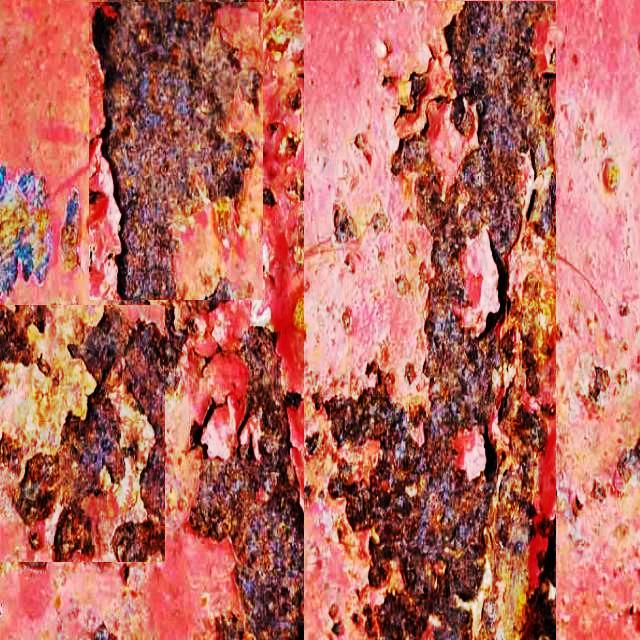Corrosion: (334, 130, 505, 600), (94, 0, 254, 302), (446, 2, 556, 256), (190, 419, 303, 640), (14, 385, 155, 562), (472, 419, 555, 640), (111, 323, 185, 563), (237, 327, 289, 464), (498, 276, 556, 396), (0, 165, 51, 294), (69, 309, 130, 382), (170, 278, 233, 332), (500, 386, 547, 456), (312, 388, 360, 448), (367, 591, 425, 640), (0, 306, 47, 366), (60, 191, 79, 268), (238, 67, 262, 110), (618, 441, 640, 484), (589, 367, 611, 410), (334, 205, 357, 244), (215, 615, 244, 640), (604, 158, 623, 190), (279, 132, 301, 158), (355, 133, 371, 162), (91, 625, 116, 640), (371, 212, 389, 232), (593, 481, 608, 504), (286, 89, 302, 110), (396, 275, 410, 296), (332, 623, 343, 638), (329, 605, 338, 620)
